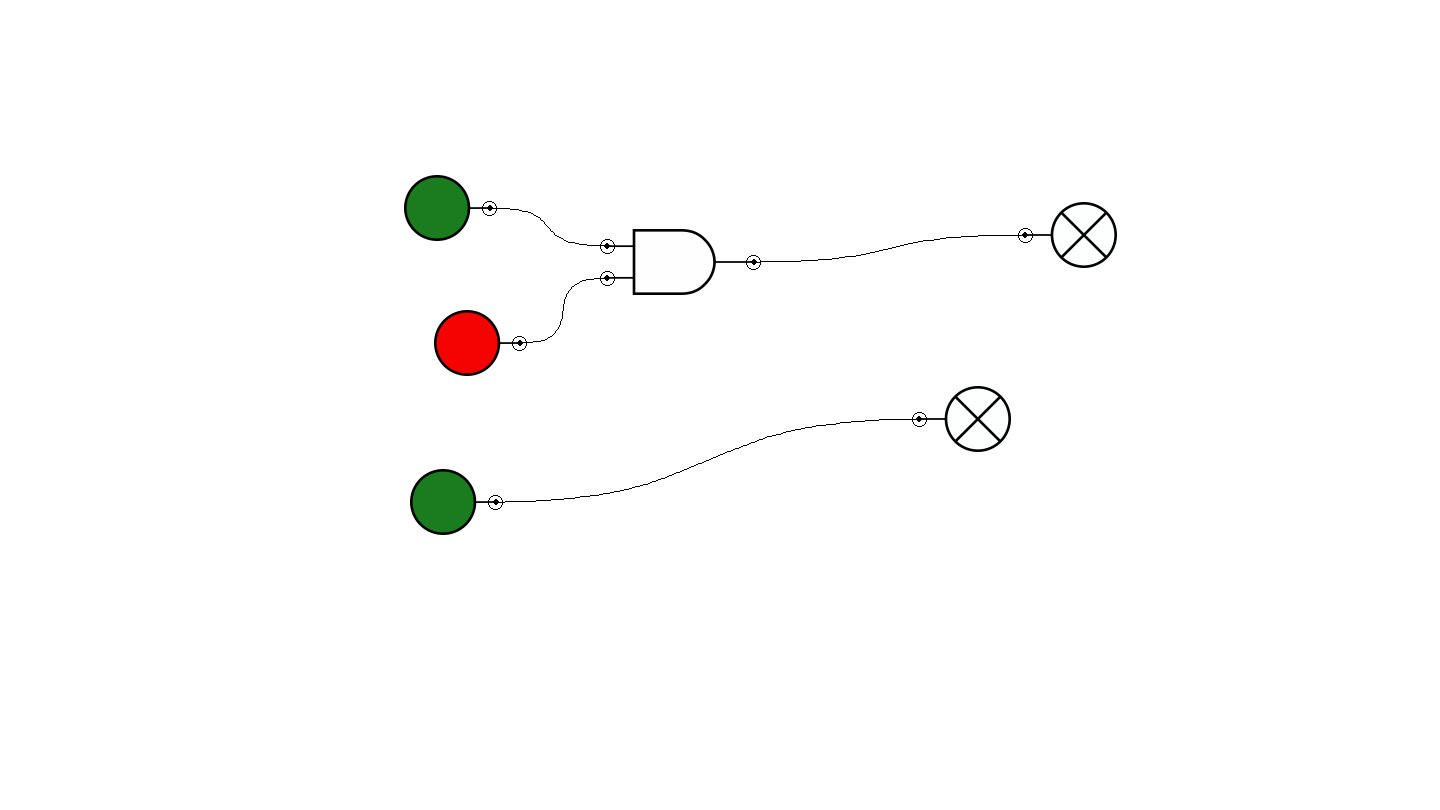and: (600, 229, 761, 295)
bulb: (1018, 202, 1117, 268), (912, 386, 1011, 452)
switch_False: (434, 310, 527, 376)
switch_True: (404, 175, 497, 241), (410, 469, 503, 535)
